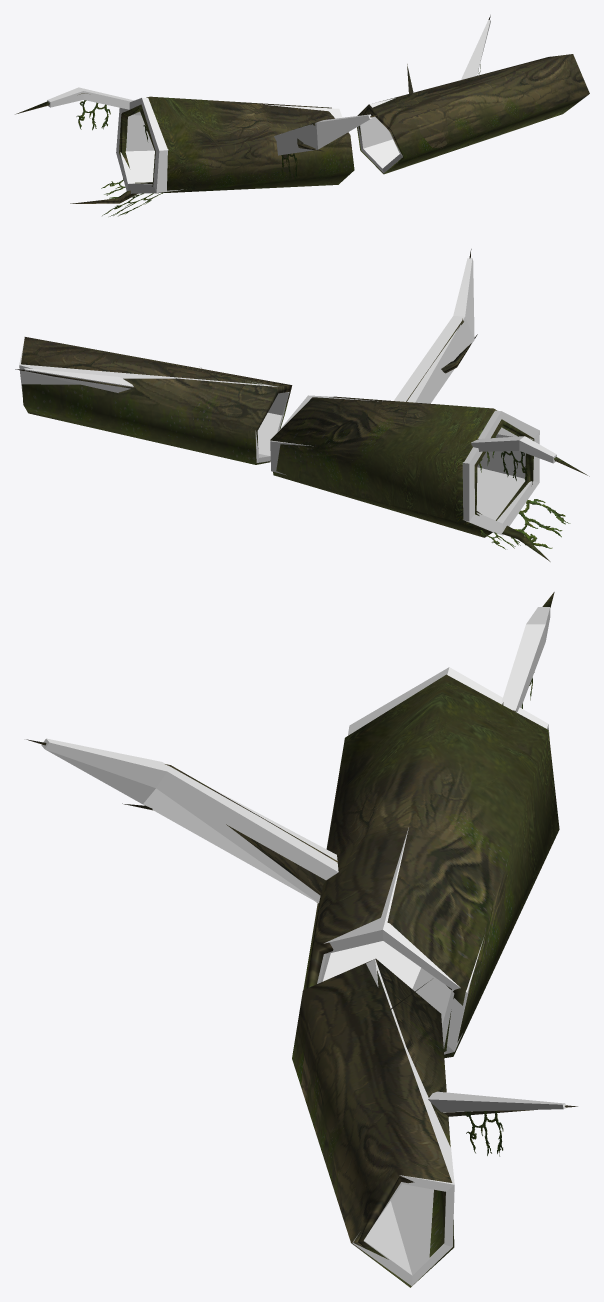
File: FallenTree_1_Col (1).fbx
3 views of the same model, one above another, from view 1: azimuth 30°, elevation 25°; view 2: azimuth 150°, elevation 25°; view 3: azimuth 270°, elevation 25° (orthographic). The views are drawn at different scales.
Visible parts, largest first — view 1: fallentree_1, FallenTree1_Col; view 2: fallentree_1, FallenTree1_Col; view 3: fallentree_1, FallenTree1_Col.
Part boxes in pixels (box(x1,y1,x2,y2)): fallentree_1: box(15, 15, 589, 216); FallenTree1_Col: box(47, 20, 549, 193); fallentree_1: box(15, 249, 589, 561); FallenTree1_Col: box(19, 258, 556, 535); fallentree_1: box(26, 592, 577, 1287); FallenTree1_Col: box(41, 607, 565, 1285).
Size of the model in its own units: 520 by 136 by 238.
